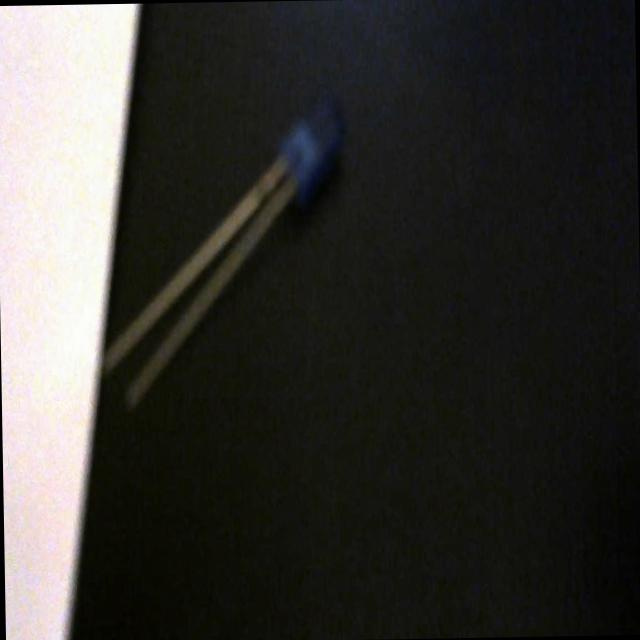blue_led: (262, 73, 366, 227)
